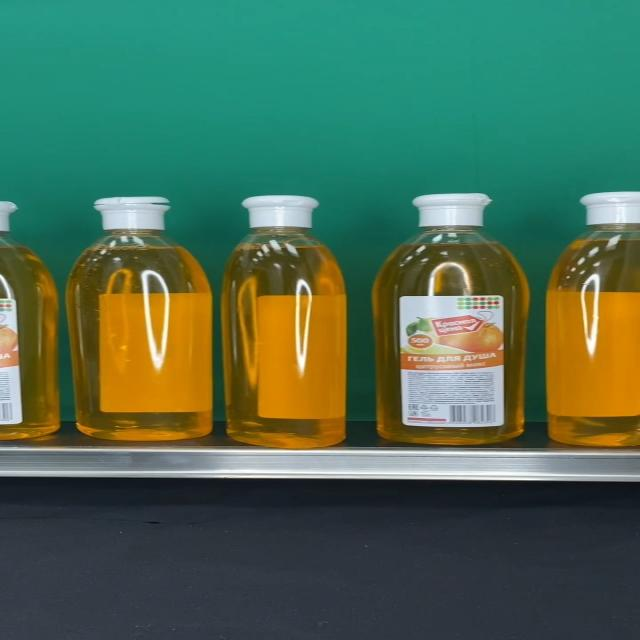Bottle: (373, 193, 530, 444), (66, 196, 213, 441), (223, 195, 347, 449)
Cap: (409, 194, 492, 226), (95, 196, 172, 230), (241, 195, 319, 228)
